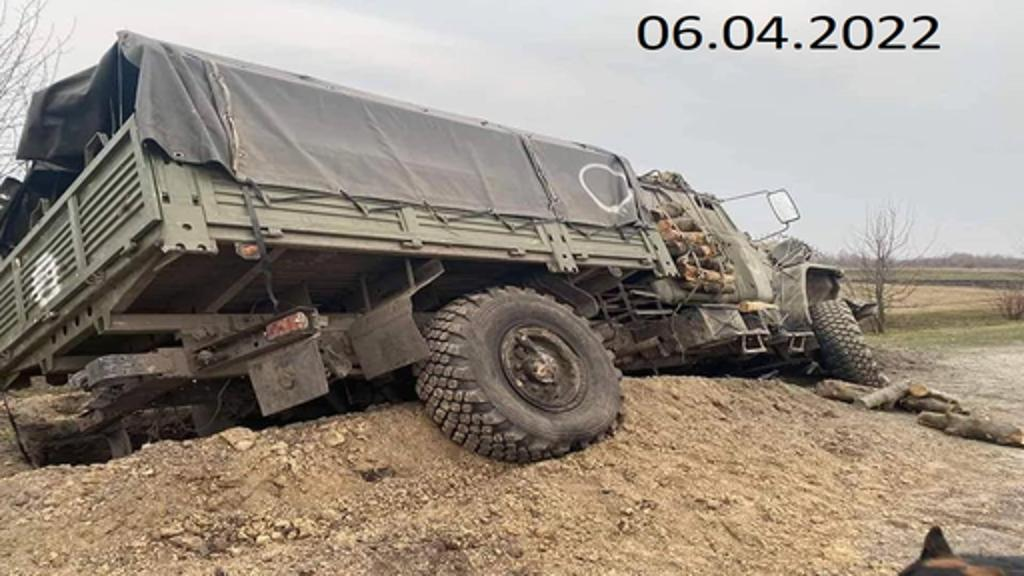TRUCK: (0, 26, 888, 472)
